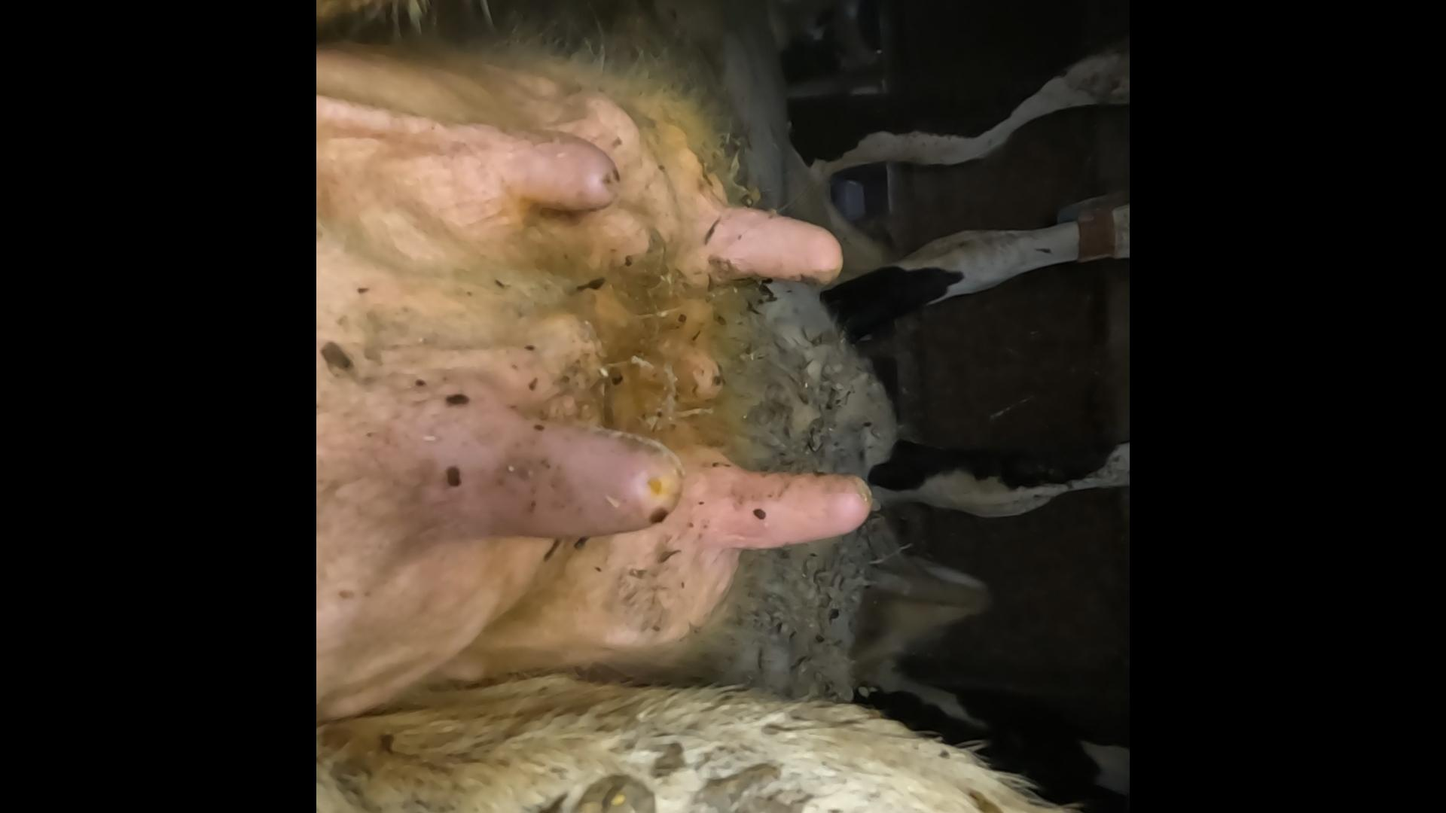Zitze: (467, 408, 696, 555), (701, 435, 882, 560), (693, 184, 854, 313), (508, 102, 617, 218)
